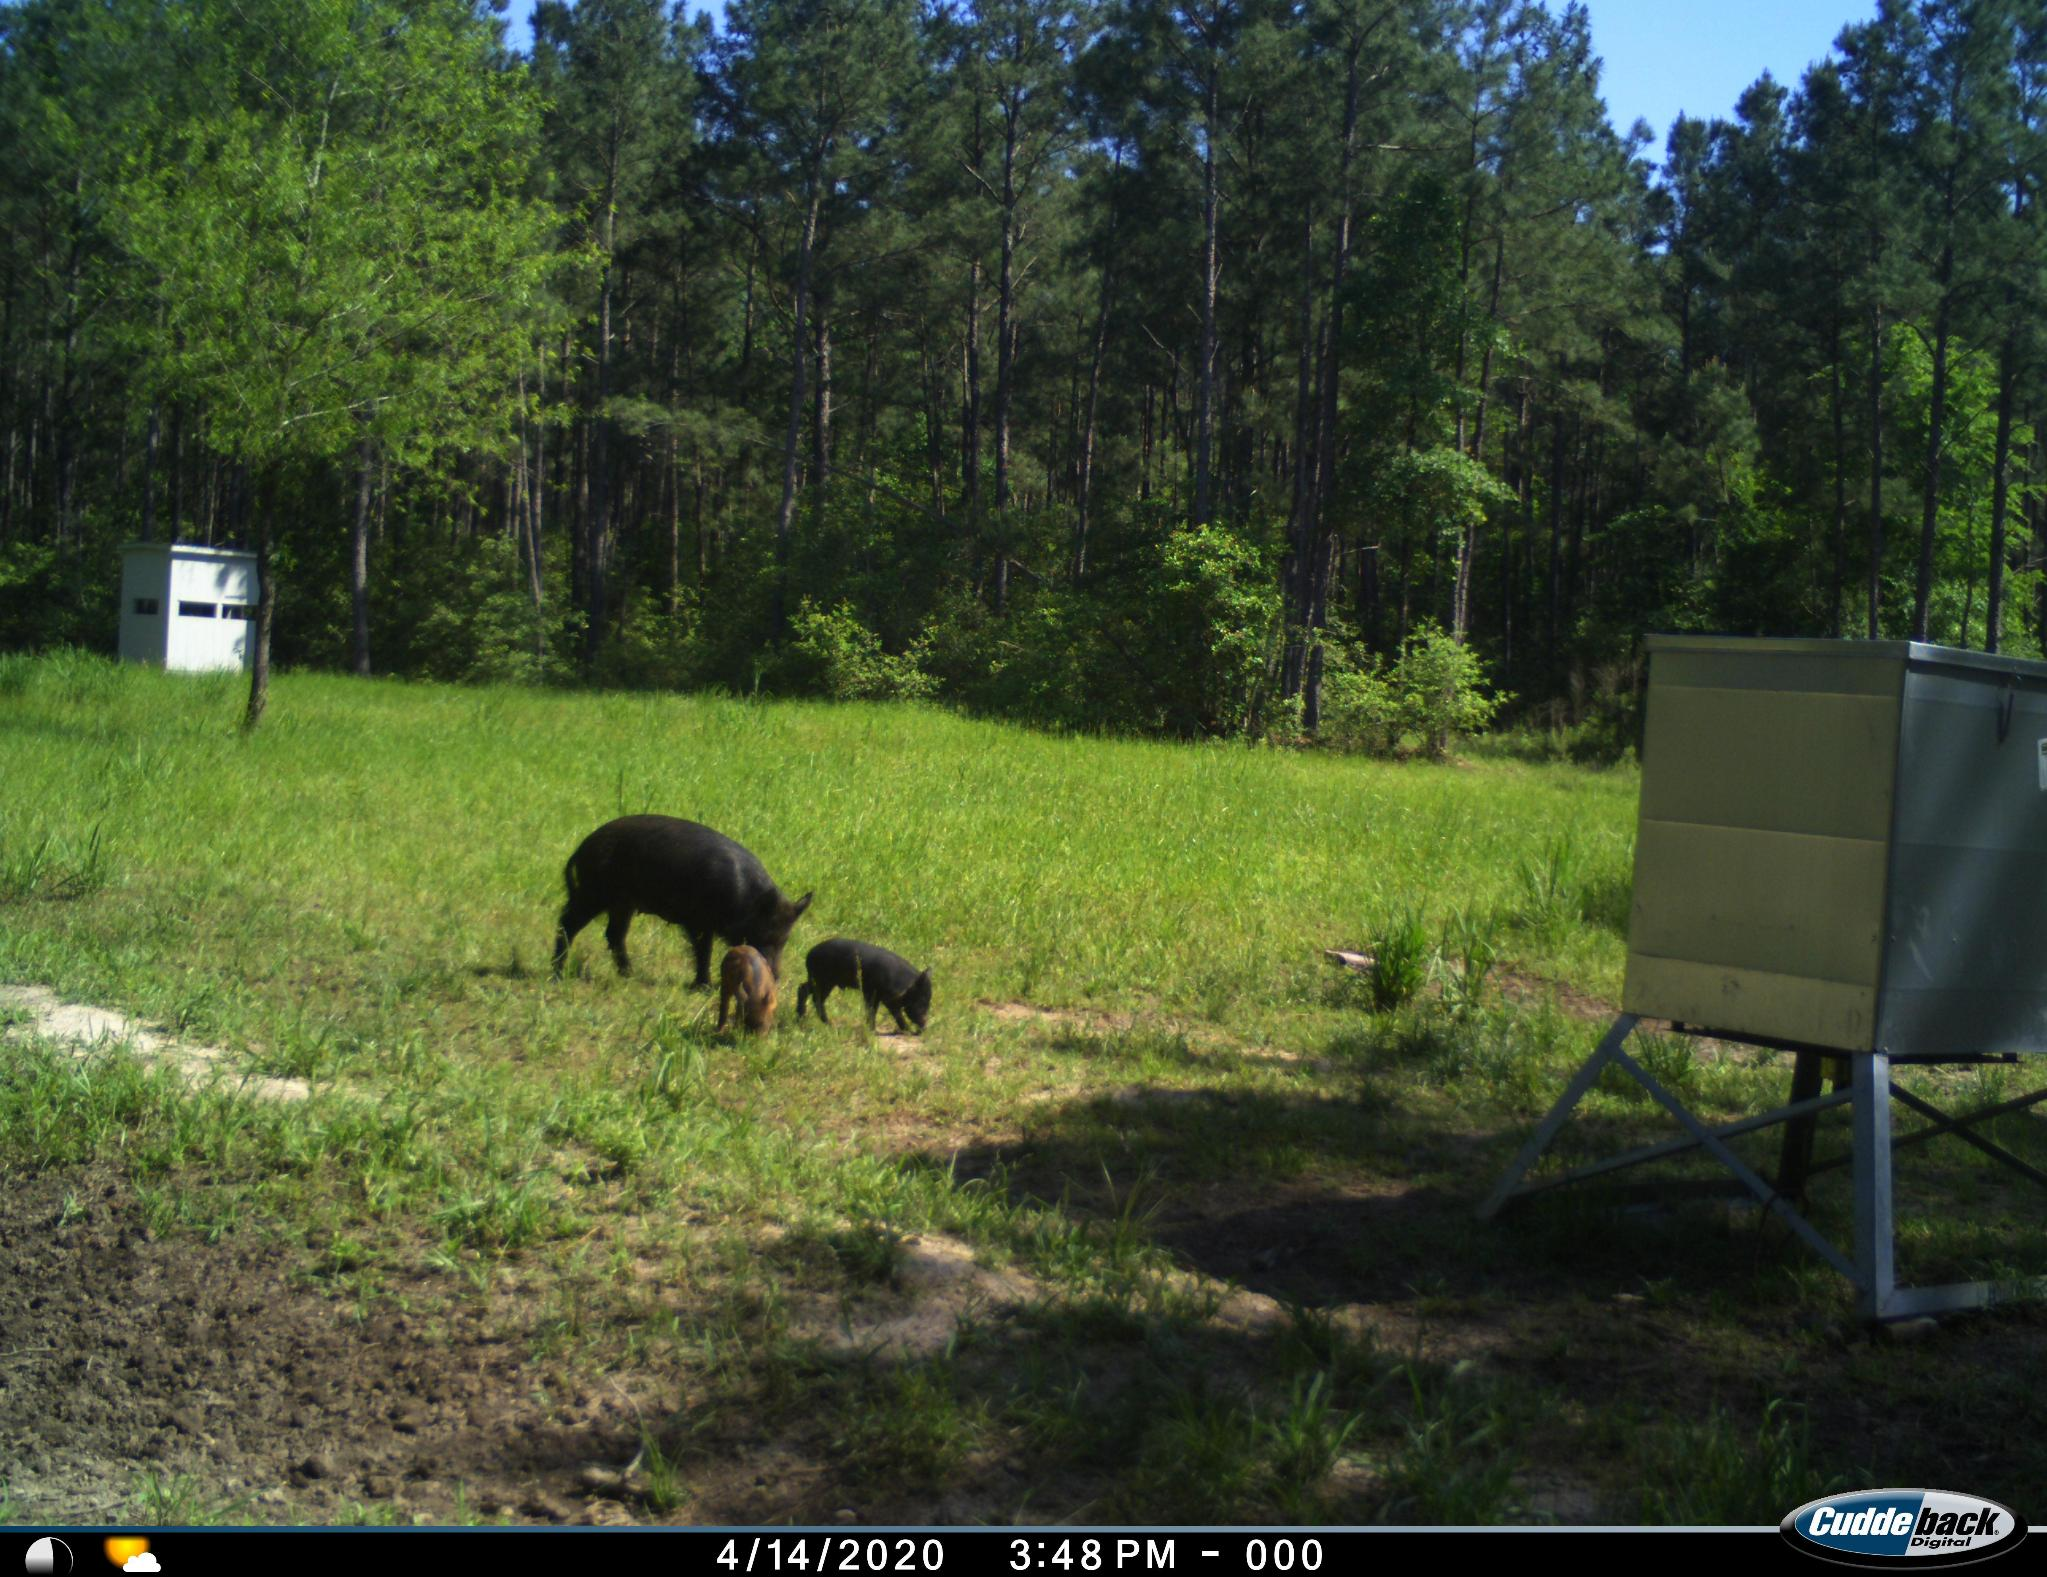Hog: (542, 802, 807, 979), (783, 934, 947, 1040), (702, 938, 785, 1050)
